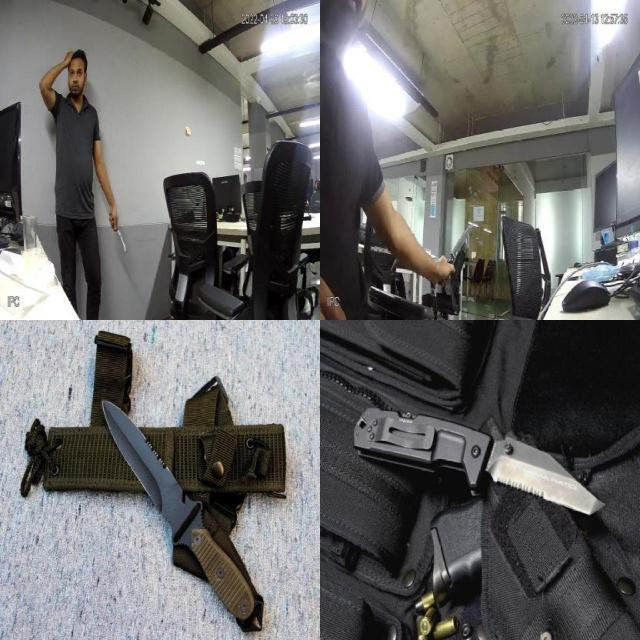-: (98, 394, 199, 544), (480, 428, 615, 519), (445, 225, 474, 260), (110, 220, 128, 252)
